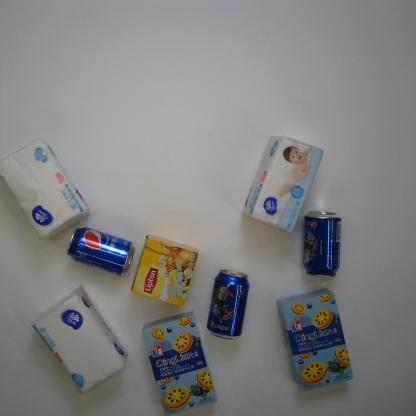Dessert: (277, 288, 354, 392), (142, 310, 217, 416)
Drink: (66, 226, 136, 277), (206, 269, 250, 340), (302, 210, 342, 278)
Instant Drink: (130, 234, 199, 307)
Tissue: (30, 286, 128, 395), (0, 137, 90, 242), (242, 134, 324, 232)
